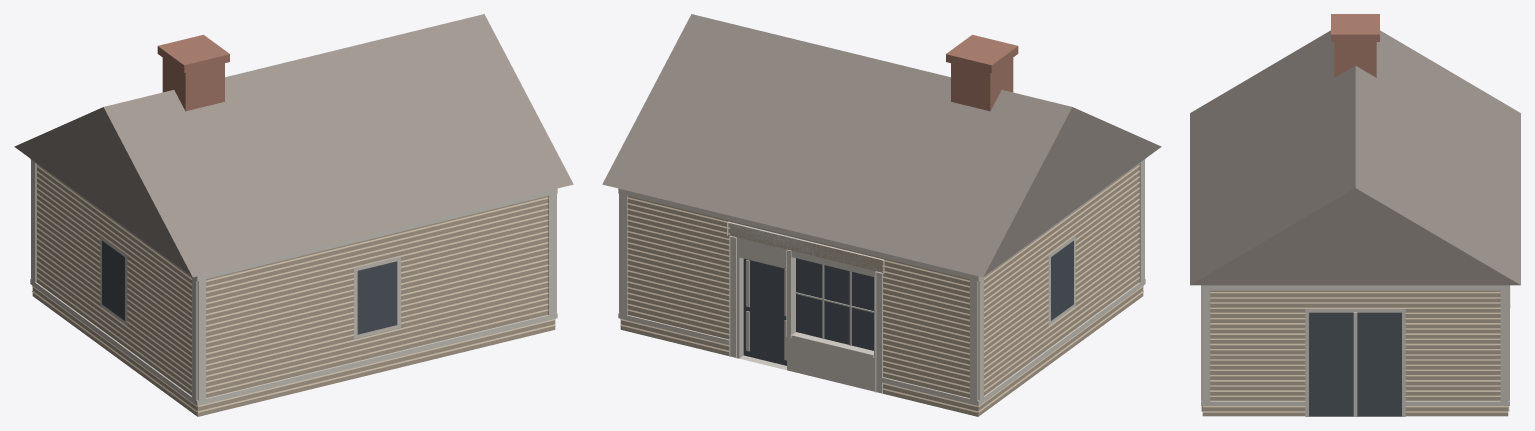
The model's file is pruyne_kimball_drugstore__frame_1830s.glb.
3 renders of one model, left to right at view 1: azimuth 30°, elevation 25°; view 2: azimuth 150°, elevation 25°; view 3: azimuth 270°, elevation 25°, orthographic. The views are drawn at different scales.
Visible parts, largest first — view 1: pruyne_kimball_drugstore__frame_1830s; view 2: pruyne_kimball_drugstore__frame_1830s; view 3: pruyne_kimball_drugstore__frame_1830s.
Boxes of the visible parts, box(x1,y1,x2,y2) form: pruyne_kimball_drugstore__frame_1830s: box(14, 14, 573, 416); pruyne_kimball_drugstore__frame_1830s: box(602, 14, 1161, 416); pruyne_kimball_drugstore__frame_1830s: box(1190, 14, 1520, 416).
Size of the model in its own units: 8.12 by 5.85 by 6.6.
